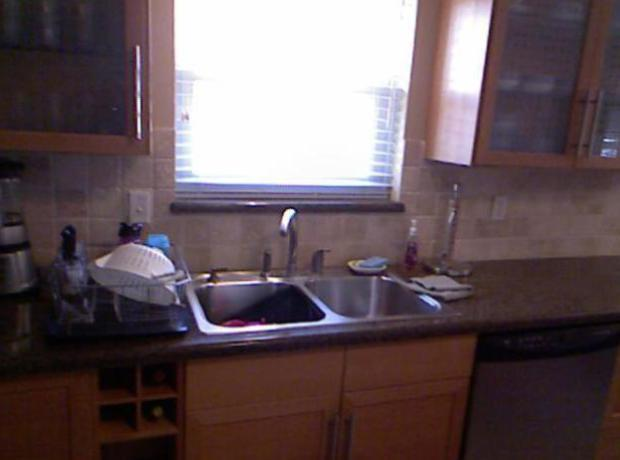Lavaplatos: (186, 197, 445, 347)
